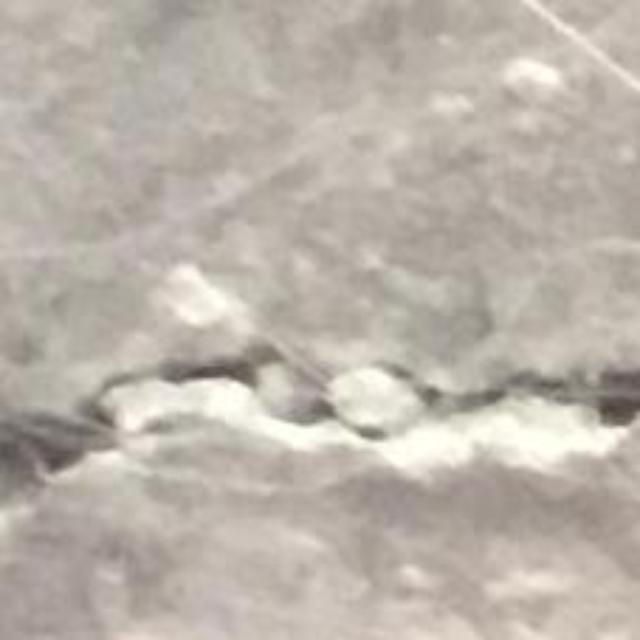crack: (0, 342, 639, 501)
